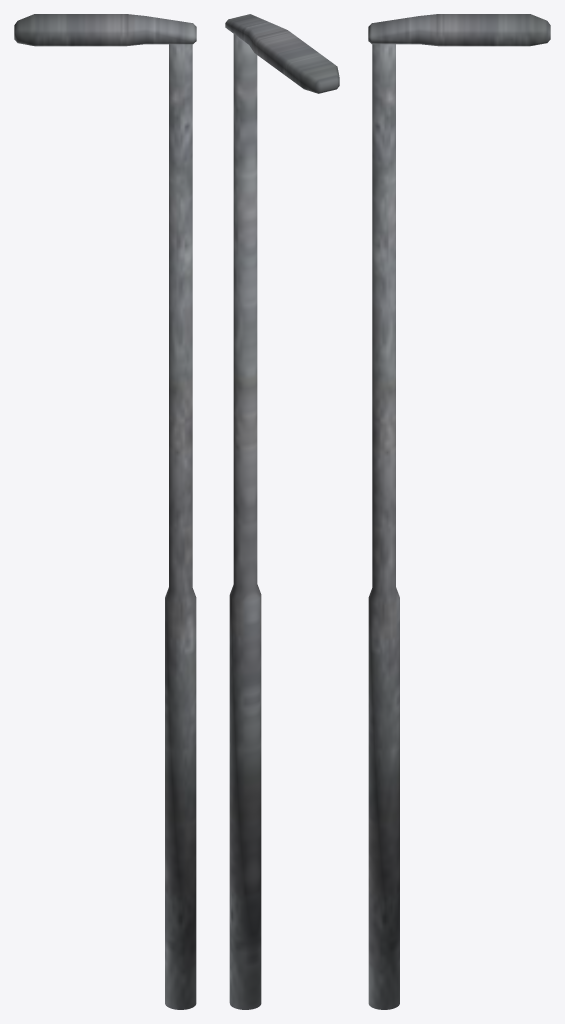
The model's file is streetlight.gltf.
3 renders of one model, left to right at view 1: azimuth 90°, elevation 25°; view 2: azimuth 210°, elevation 25°; view 3: azimuth 270°, elevation 25°, orthographic.
Visible parts, largest first — view 1: Cylinder; view 2: Cylinder; view 3: Cylinder.
Boxes of the visible parts, left/top/right/bottom form: Cylinder: left=14, top=14, right=196, bottom=1009; Cylinder: left=225, top=14, right=339, bottom=1009; Cylinder: left=368, top=14, right=550, bottom=1009.
Bounding box in the file's own units: 0.5491 × 14.23 × 2.39.
2 materials, 2 textured.
